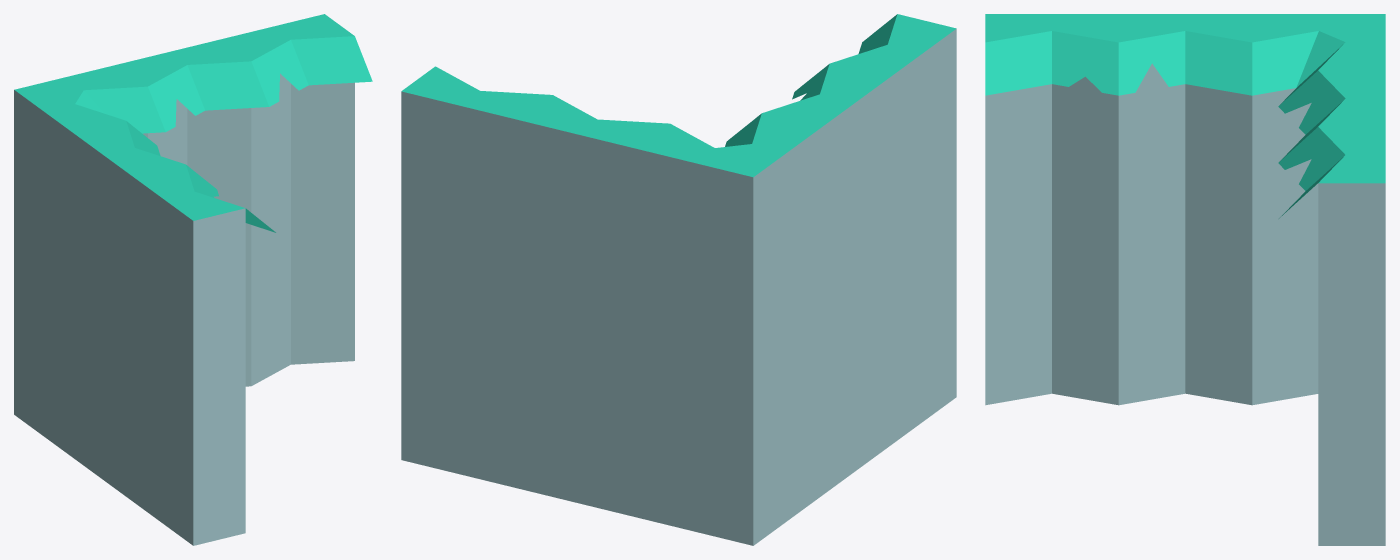
Rendered from cliff_cornerInnerTop_stone.dae.
3 renders of one model, left to right at view 1: azimuth 30°, elevation 25°; view 2: azimuth 150°, elevation 25°; view 3: azimuth 270°, elevation 25°, orthographic. The views are drawn at different scales.
Parts seen in each view (by area): view 1: cliff_cornerInnerTop_stone; view 2: cliff_cornerInnerTop_stone; view 3: cliff_cornerInnerTop_stone.
Boxes of the visible parts, x1,y1,x2,y2 form: cliff_cornerInnerTop_stone: [14, 14, 372, 545]; cliff_cornerInnerTop_stone: [401, 14, 956, 545]; cliff_cornerInnerTop_stone: [985, 14, 1385, 545].
Bounding box in the file's own units: 1 × 1 × 1.
